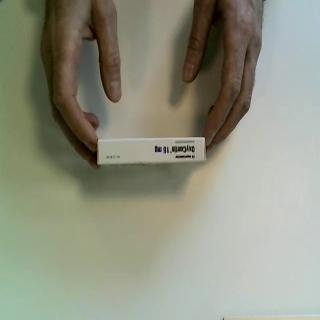oxycontin15mg: (97, 136, 209, 168)
